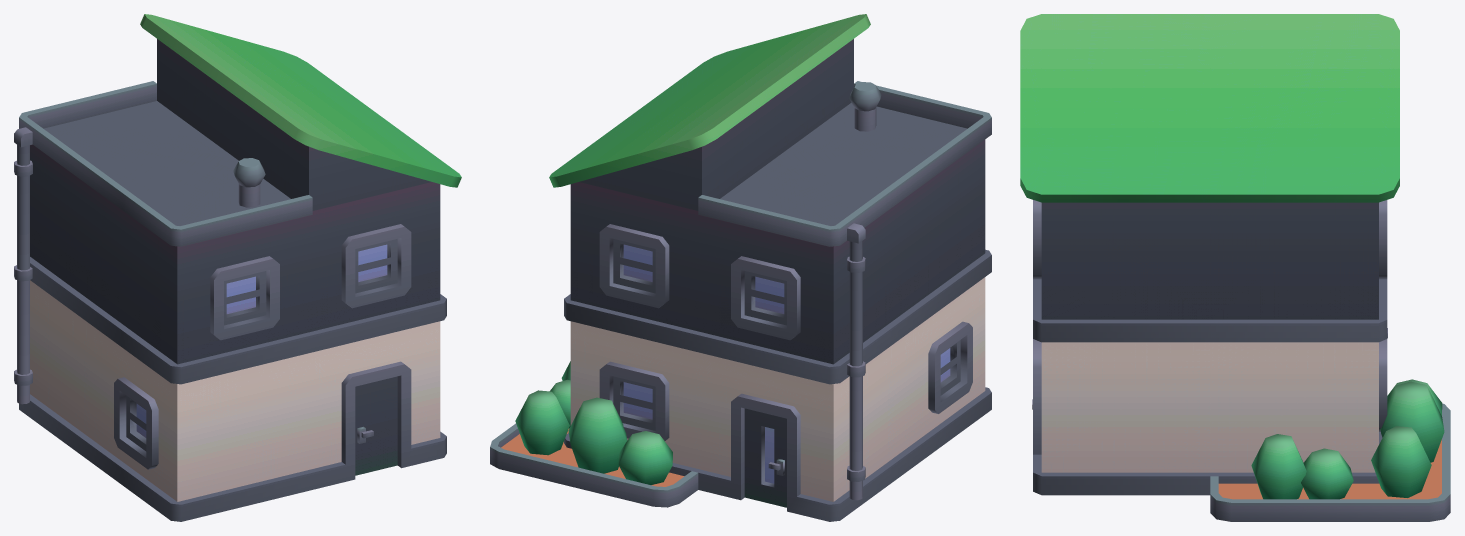
File: sub_building_type_l.glb
3 renders of one model, left to right at view 1: azimuth 30°, elevation 25°; view 2: azimuth 150°, elevation 25°; view 3: azimuth 270°, elevation 25°, orthographic. The views are drawn at different scales.
Parts seen in each view (by area): view 1: building-type-l; view 2: building-type-l; view 3: building-type-l.
Boxes of the visible parts, x1=… form: building-type-l: x1=14, y1=14, x2=461, y2=521; building-type-l: x1=490, y1=14, x2=991, y2=521; building-type-l: x1=1020, y1=14, x2=1450, y2=521.
Bounding box in the file's own units: 1.03 × 1.05 × 1.02.
1 material, 1 textured.
